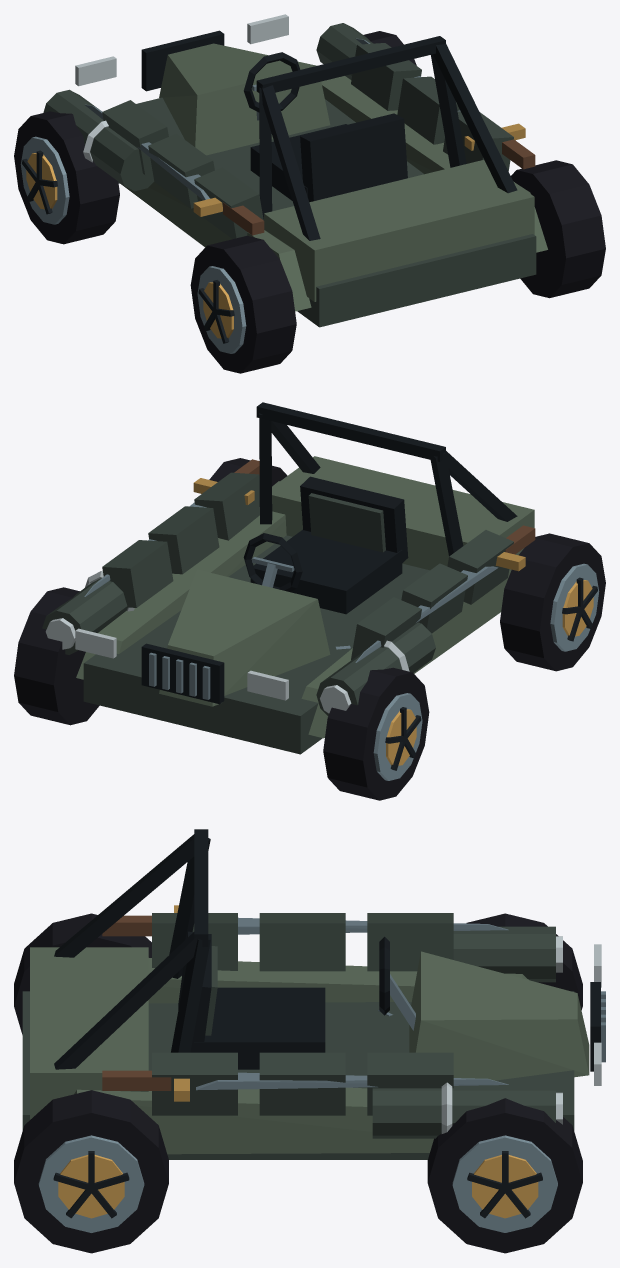
Rendered from kart.glb.
3 views of the same model, one above another, from view 1: azimuth 30°, elevation 25°; view 2: azimuth 150°, elevation 25°; view 3: azimuth 270°, elevation 25° (orthographic). The views are drawn at different scales.
Visible parts, largest first — view 1: identity-buggy-buggy-offroad-frame, identity-buggy-motif-armor, wheel-rear-left, wheel-front-left, identity-buggy-driver-cockpit, wheel-rear-right, identity-buggy-motif-plasma, identity-buggy-motif-swords; view 2: identity-buggy-buggy-offroad-frame, identity-buggy-motif-armor, identity-buggy-driver-cockpit, wheel-rear-left, wheel-front-left, identity-buggy-motif-plasma, wheel-front-right, identity-buggy-motif-swords, wheel-rear-right; view 3: identity-buggy-buggy-offroad-frame, identity-buggy-motif-armor, wheel-rear-right, wheel-front-right, identity-buggy-motif-plasma, identity-buggy-driver-cockpit, identity-buggy-motif-swords, wheel-rear-left, wheel-front-left.
Part boxes in pixels (x1=…): identity-buggy-buggy-offroad-frame: x1=75, y1=14, x2=547, y2=327; identity-buggy-motif-armor: x1=102, y1=43, x2=513, y2=238; wheel-rear-left: x1=190, y1=235, x2=296, y2=373; wheel-front-left: x1=14, y1=111, x2=119, y2=244; identity-buggy-driver-cockpit: x1=243, y1=52, x2=407, y2=202; wheel-rear-right: x1=511, y1=160, x2=605, y2=298; identity-buggy-motif-plasma: x1=43, y1=23, x2=373, y2=191; identity-buggy-motif-swords: x1=84, y1=38, x2=535, y2=235; identity-buggy-buggy-offroad-frame: x1=75, y1=402, x2=534, y2=754; identity-buggy-motif-armor: x1=102, y1=472, x2=513, y2=660; identity-buggy-driver-cockpit: x1=243, y1=476, x2=408, y2=614; wheel-rear-left: x1=500, y1=533, x2=605, y2=671; wheel-front-left: x1=323, y1=667, x2=429, y2=800; identity-buggy-motif-plasma: x1=42, y1=571, x2=435, y2=715; wheel-front-right: x1=14, y1=587, x2=99, y2=725; identity-buggy-motif-swords: x1=84, y1=459, x2=535, y2=662; wheel-rear-right: x1=209, y1=458, x2=287, y2=486; identity-buggy-buggy-offroad-frame: x1=22, y1=829, x2=605, y2=1159; identity-buggy-motif-armor: x1=152, y1=913, x2=453, y2=1115; wheel-rear-right: x1=14, y1=1090, x2=168, y2=1253; wheel-front-right: x1=427, y1=1098, x2=582, y2=1253; identity-buggy-motif-plasma: x1=372, y1=926, x2=562, y2=1138; identity-buggy-driver-cockpit: x1=178, y1=931, x2=415, y2=1069; identity-buggy-motif-swords: x1=102, y1=905, x2=508, y2=1101; wheel-rear-left: x1=14, y1=913, x2=151, y2=1034; wheel-front-left: x1=466, y1=913, x2=582, y2=1010.
Size of the model in its own units: 2.31 by 1.39 by 2.75.
